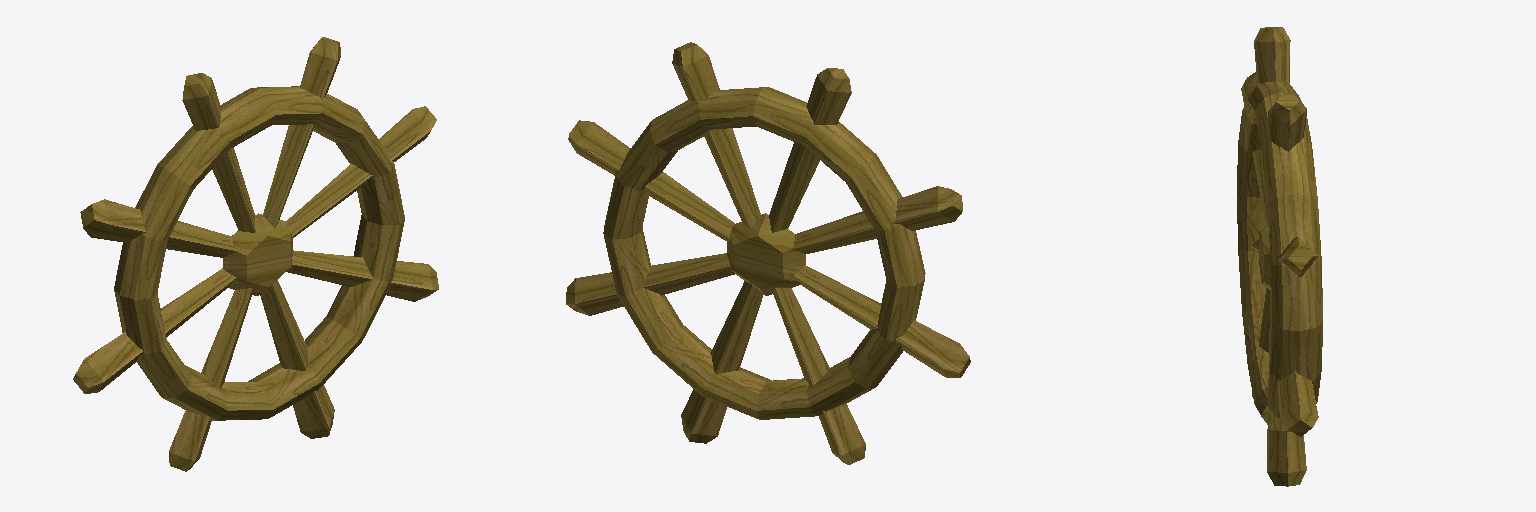
3 renders of one model, left to right at view 1: azimuth 30°, elevation 25°; view 2: azimuth 150°, elevation 25°; view 3: azimuth 270°, elevation 25°, orthographic.
Visible parts, largest first — view 1: Object001; view 2: Object001; view 3: Object001.
Boxes of the visible parts, x1=… form: Object001: x1=73, y1=37, x2=438, y2=471; Object001: x1=566, y1=42, x2=970, y2=464; Object001: x1=1237, y1=27, x2=1322, y2=486.
Size of the model in its own units: 0.7449 by 0.7439 by 0.1463.
1 materials, 1 textured.